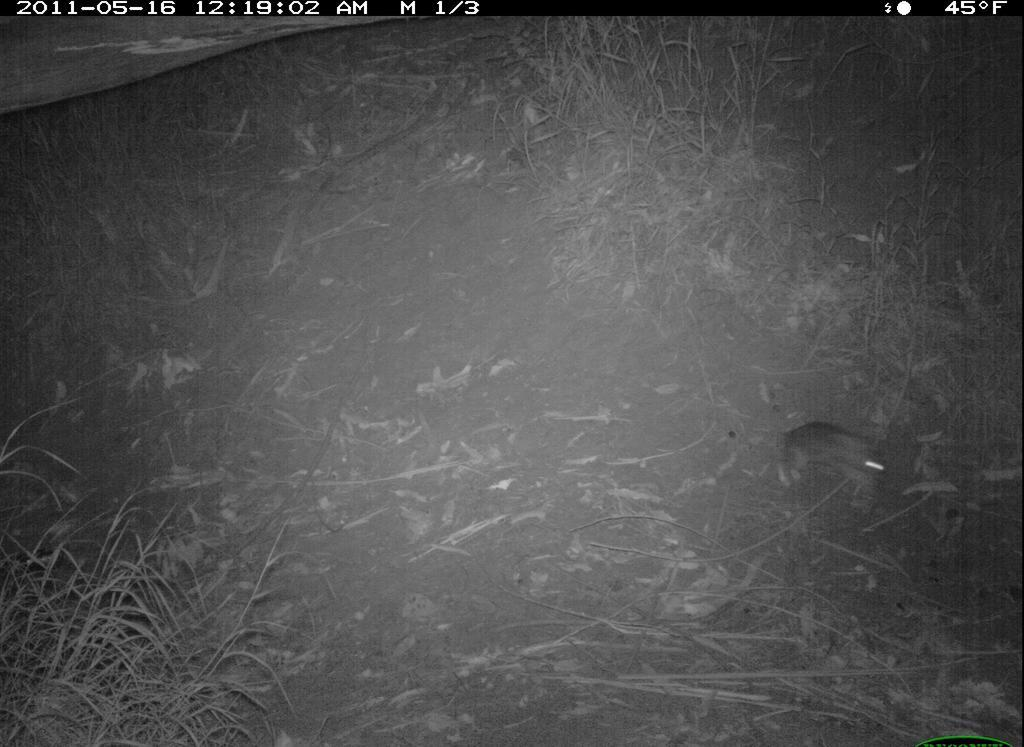rabbit: (762, 414, 890, 524)
